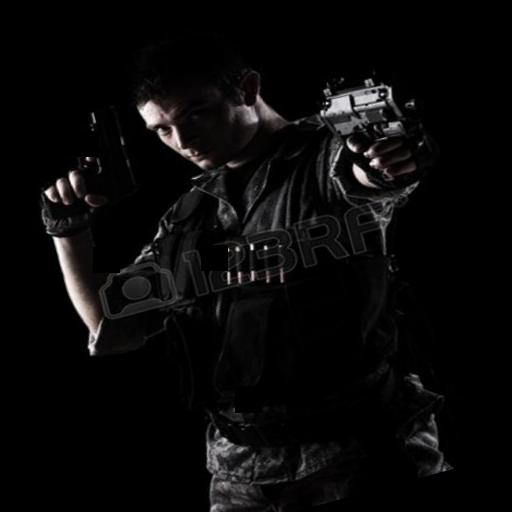Handgun: (1, 74, 161, 226), (304, 52, 448, 180)
